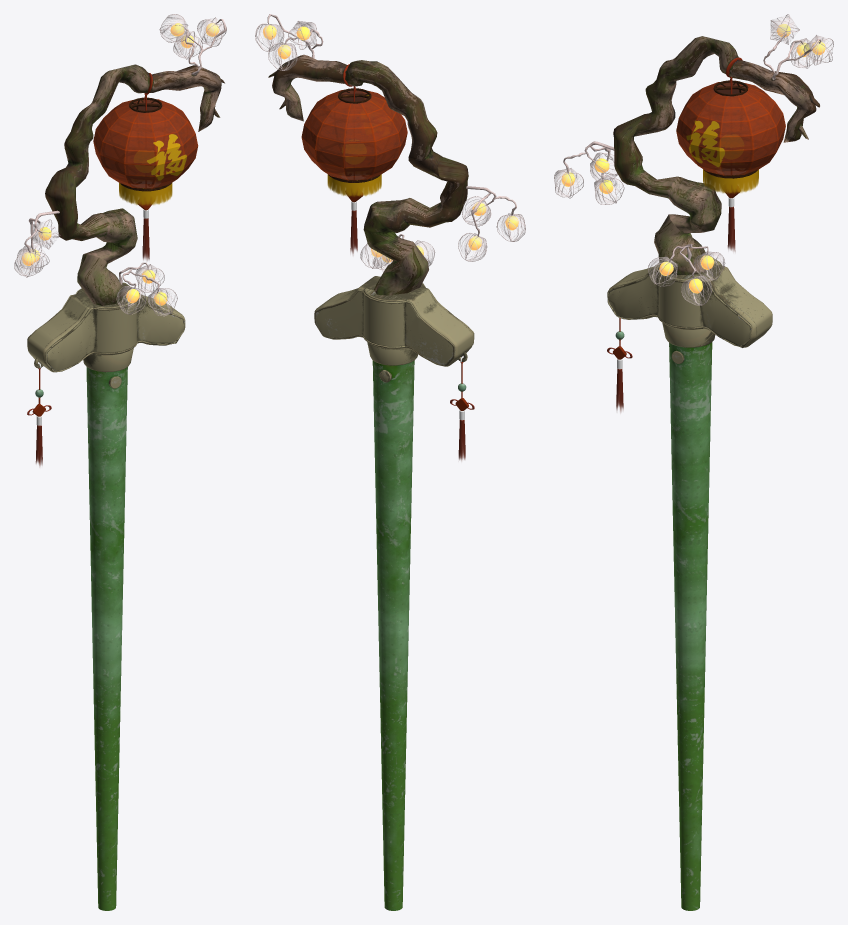
3 renders of one model, left to right at view 1: azimuth 30°, elevation 25°; view 2: azimuth 150°, elevation 25°; view 3: azimuth 330°, elevation 25°, orthographic. The views are drawn at different scales.
Visible parts, largest first — view 1: staff, Branch, Hilt, Lantern, Lantern_Tassles, Staff_hiltbottom, leaf6, Leaf5, leaf3, Leaf2; view 2: staff, Branch, Hilt, Lantern, Lantern_Tassles, Staff_hiltbottom; view 3: staff, Branch, Hilt, Lantern, Lantern_Tassles, Staff_hiltbottom.
Boxes of the visible parts, box(x1,y1,x2,y2) form: staff: box(86, 367, 127, 910); Branch: box(45, 64, 221, 305); Hilt: box(27, 282, 185, 372); Lantern: box(93, 99, 198, 188); Lantern_Tassles: box(119, 182, 172, 205); Staff_hiltbottom: box(83, 348, 133, 372); leaf6: box(160, 14, 187, 41); Leaf5: box(197, 18, 225, 45); leaf3: box(15, 249, 42, 276); Leaf2: box(31, 220, 58, 248); staff: box(372, 360, 414, 910); Branch: box(272, 54, 468, 295); Hilt: box(314, 276, 473, 366); Lantern: box(301, 90, 407, 180); Lantern_Tassles: box(327, 174, 381, 196); Staff_hiltbottom: box(367, 342, 417, 365); staff: box(669, 342, 712, 910); Branch: box(613, 36, 816, 275); Hilt: box(608, 258, 772, 347); Lantern: box(676, 82, 785, 175); Lantern_Tassles: box(703, 169, 758, 193); Staff_hiltbottom: box(662, 323, 715, 347).
Size of the model in its own units: 0.0579 by 0.2 by 0.0244.
16 materials, 15 textured.
